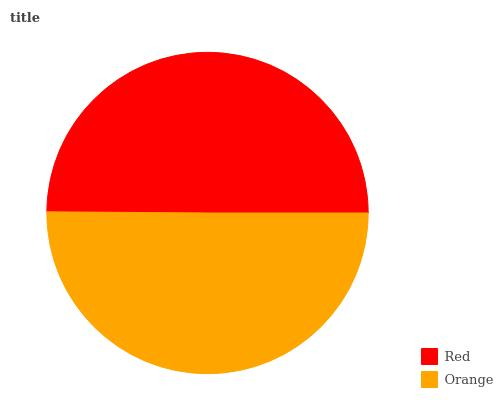legend: (404, 328, 503, 400)
sector: (45, 209, 370, 377), (46, 51, 367, 210)
